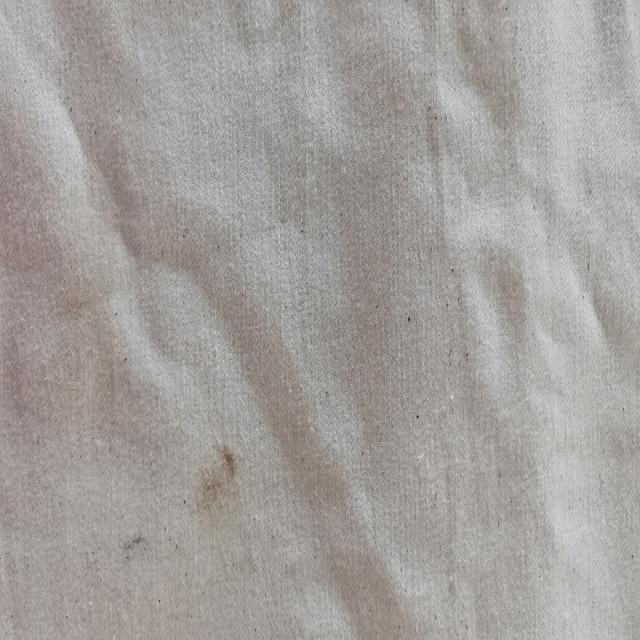taaaches: (190, 429, 242, 528), (115, 516, 149, 578)
